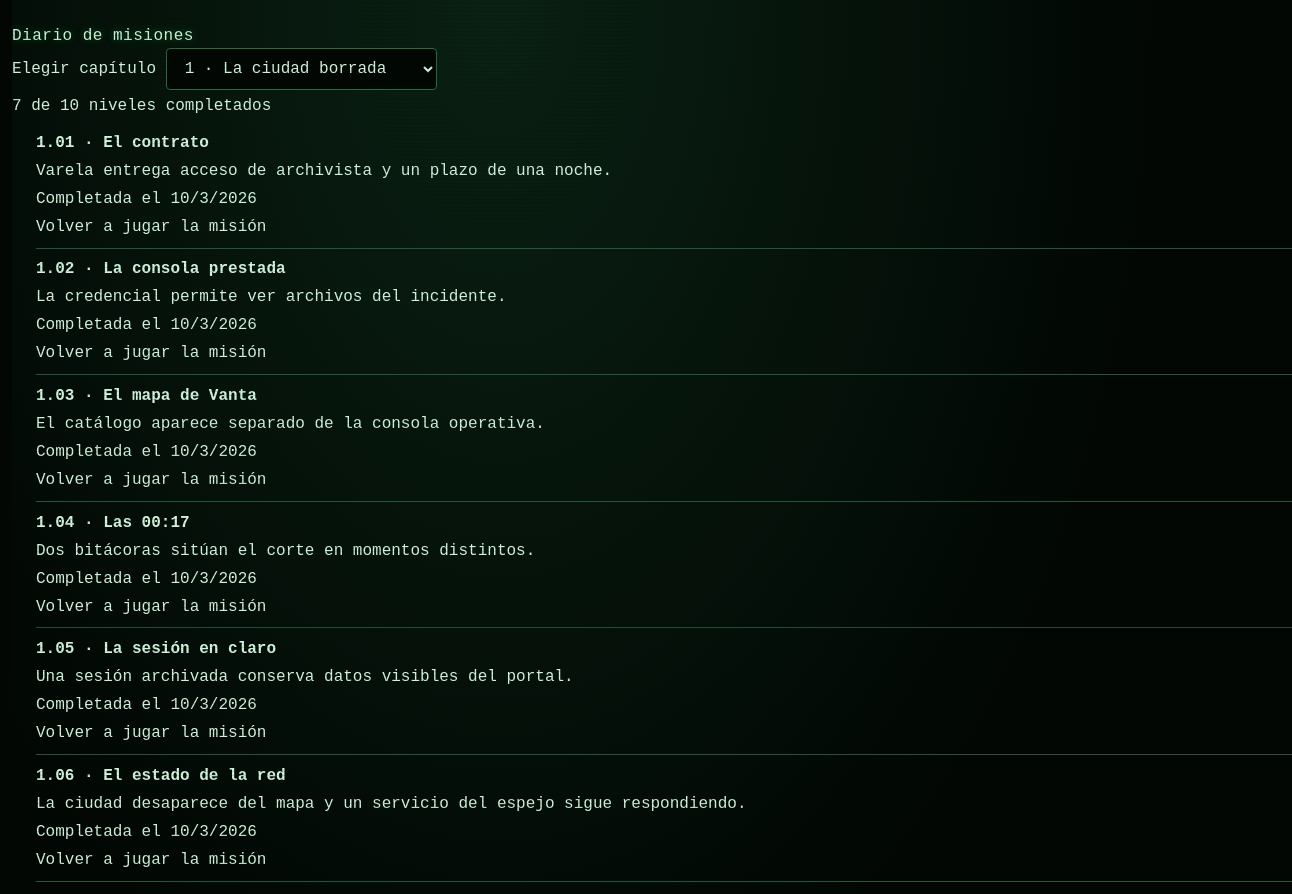
Test: Mission journal › opens a specific replay, offers the required equipment at its gate and keeps later missions locked
Select "6 · La última línea" in the dropdown at (301, 69), box [166,48,437,90]
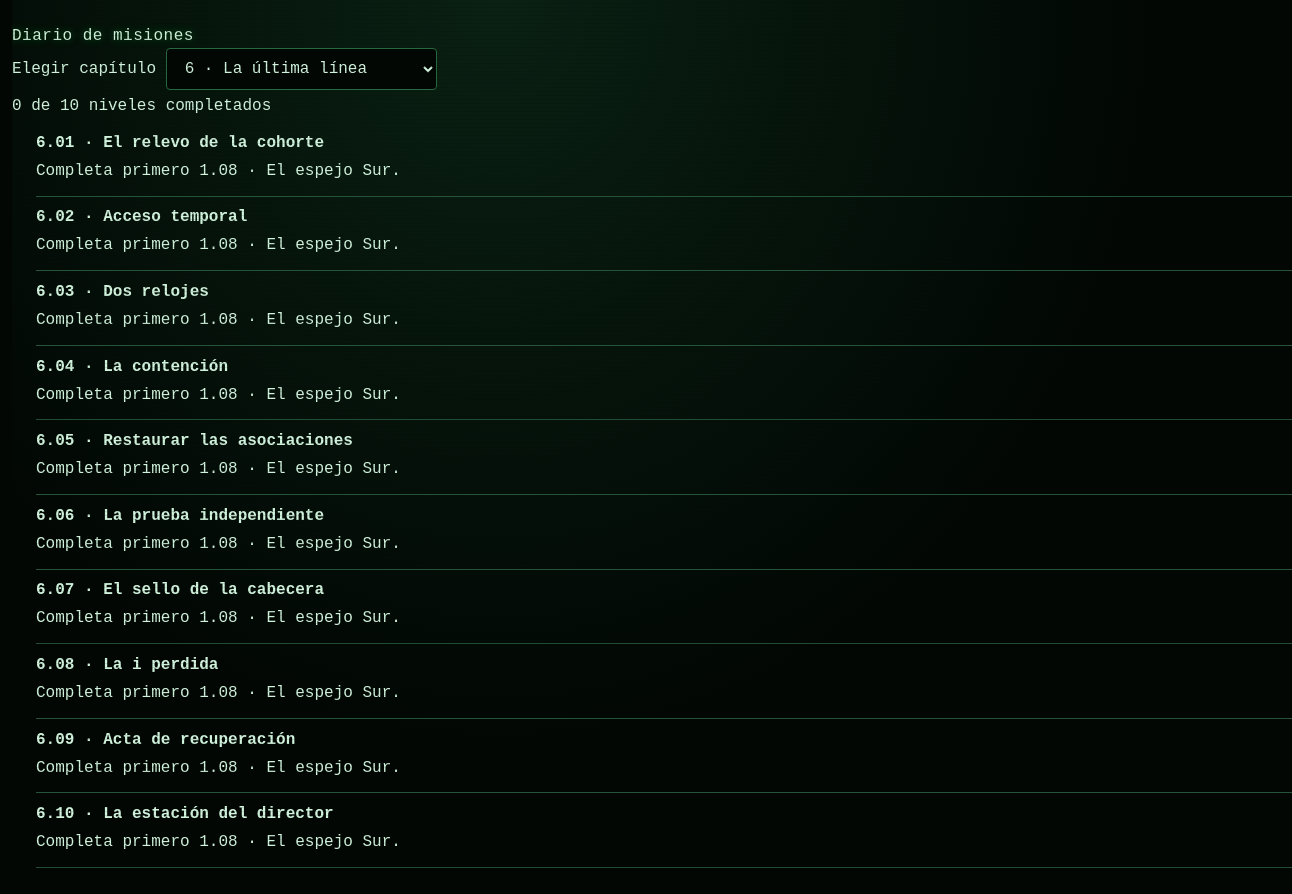
Expected: the link "Volver a jugar la misión" is gone
Expected: the text "Completa primero 1.08 · El espejo Sur." is shown 10 times
